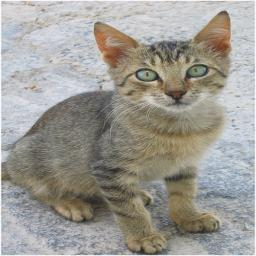catnose: (165, 90, 188, 101)
